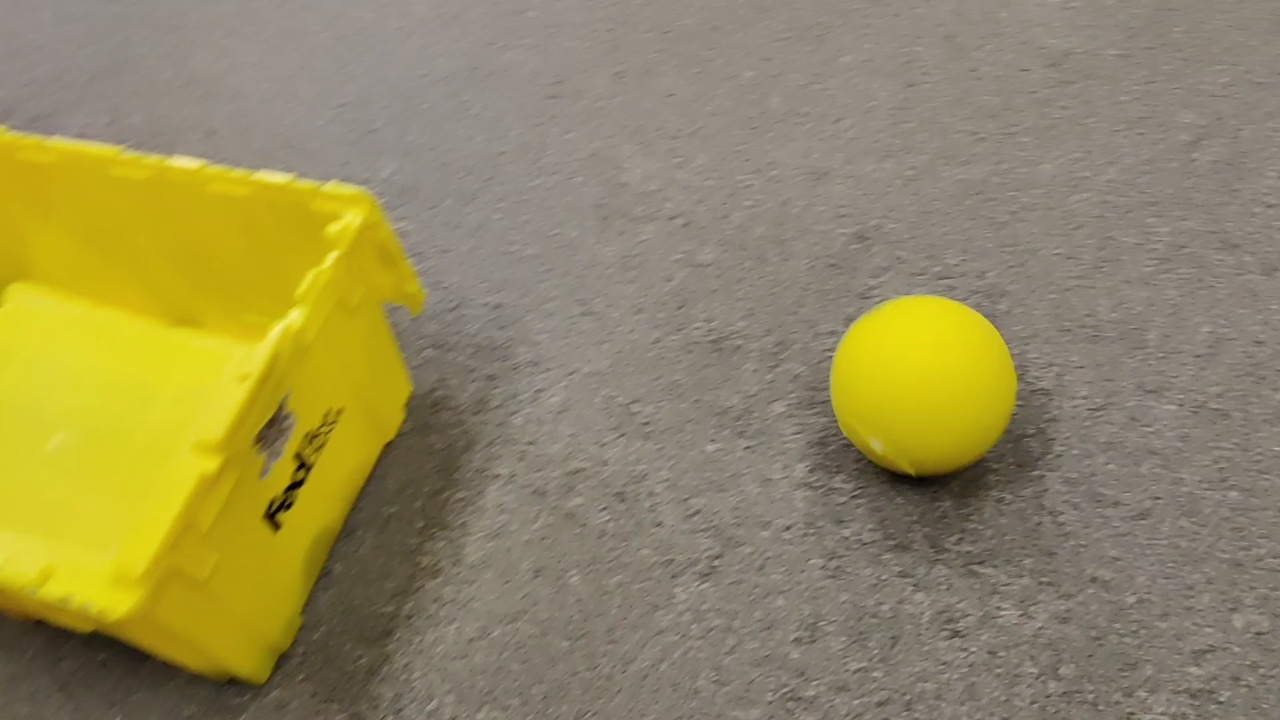Ball: (830, 295, 1015, 476)
